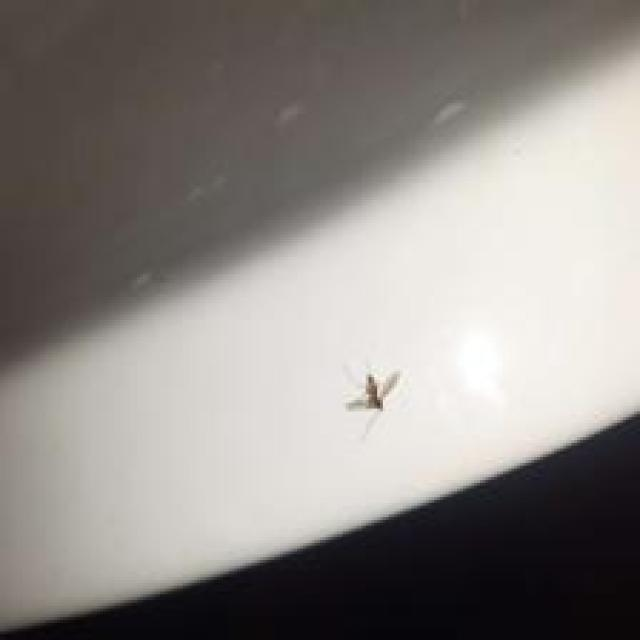Culex: (344, 364, 402, 413)
